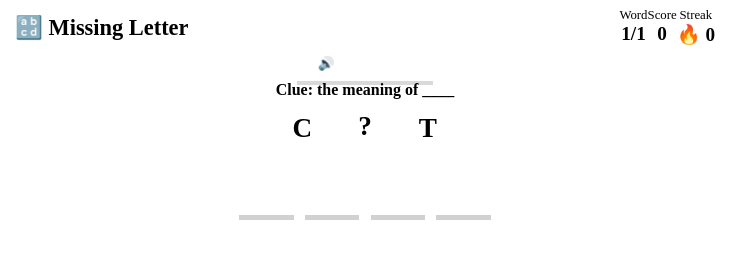
Scenario: Missing Letter › after a miss the gap shows the RIGHT letter, says the word and lingers before moving on
This screenshot has width=732, height=266.
Note: Any of the three traps — which vowels they are is random.
Click the button "I".
click(267, 186)  # box [239, 158, 294, 215]
Wait 2300 ms
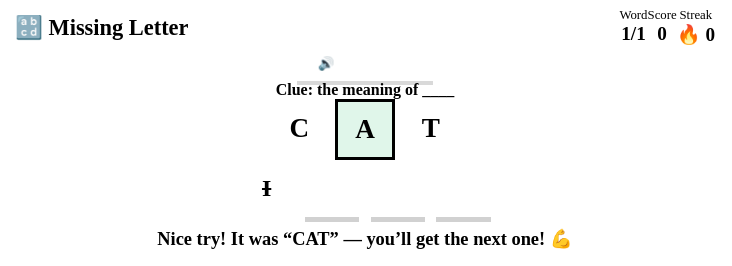
Expected: the text with test id "ml-blank" reads "A", [355, 114, 375, 144]
Expected: the message shows "It was “CAT”", [157, 229, 573, 249]
